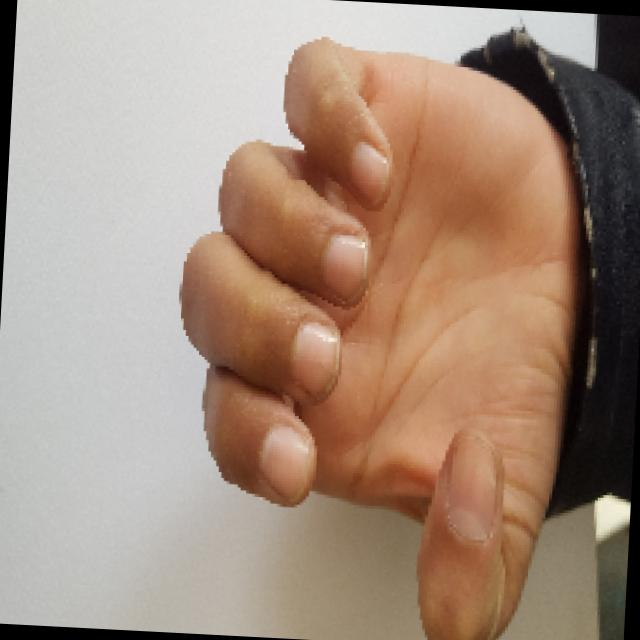Nail: (446, 436, 495, 541), (258, 424, 316, 500), (290, 322, 341, 401), (322, 235, 368, 304), (349, 142, 388, 203)
